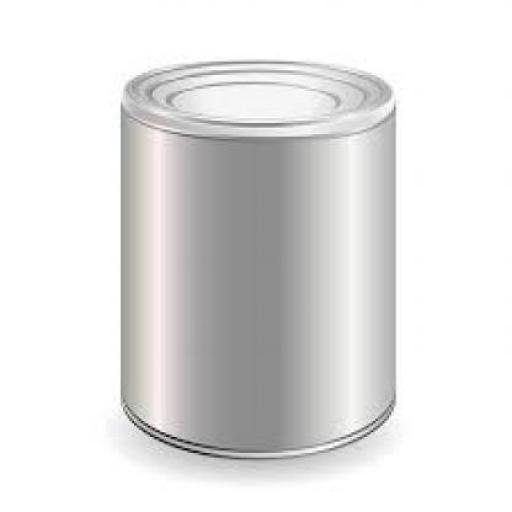metal: (123, 59, 396, 451)
